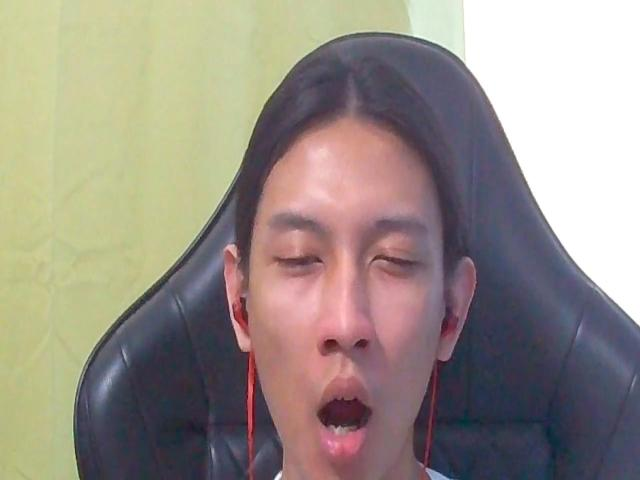eye_closed: (368, 242, 422, 278)
eye_open: (266, 242, 324, 281)
face: (250, 188, 443, 480)
mouth_open: (310, 374, 381, 466)
